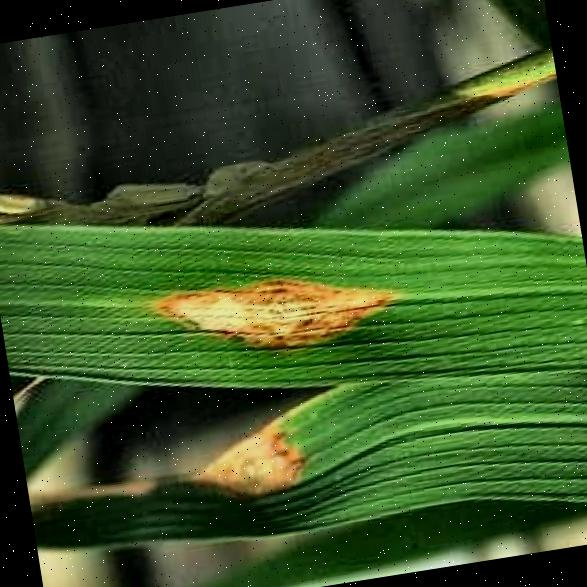Leaf_smut: (69, 252, 432, 526)
